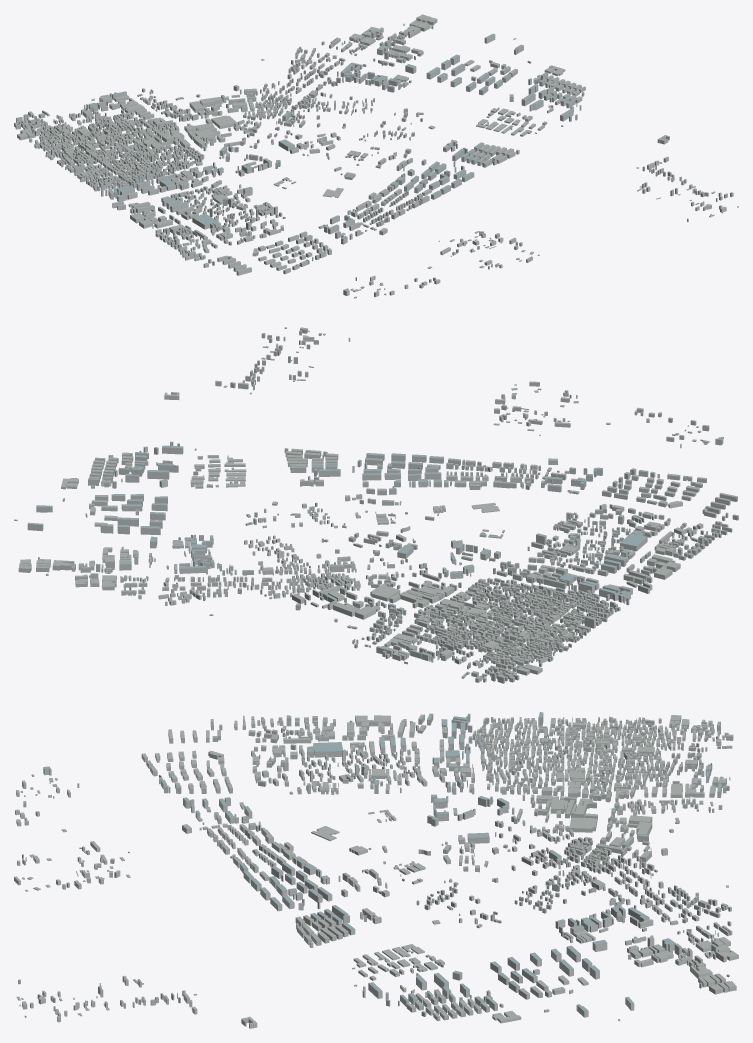
The model's file is far.glb.
The picture shows the model from 3 angles, top to bottom: view 1: azimuth 30°, elevation 25°; view 2: azimuth 150°, elevation 25°; view 3: azimuth 270°, elevation 25°; orthographic projection. The views are drawn at different scales.
Size of the model in its own units: 2152 by 33.89 by 2128.
